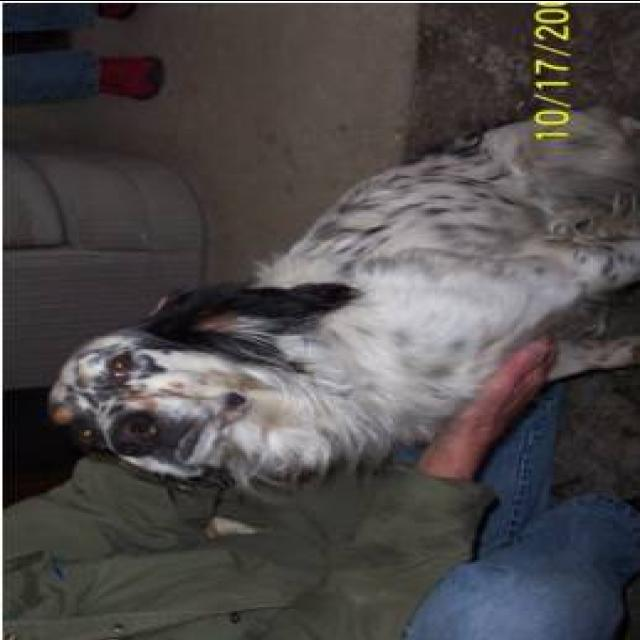dog: (29, 82, 640, 506)
